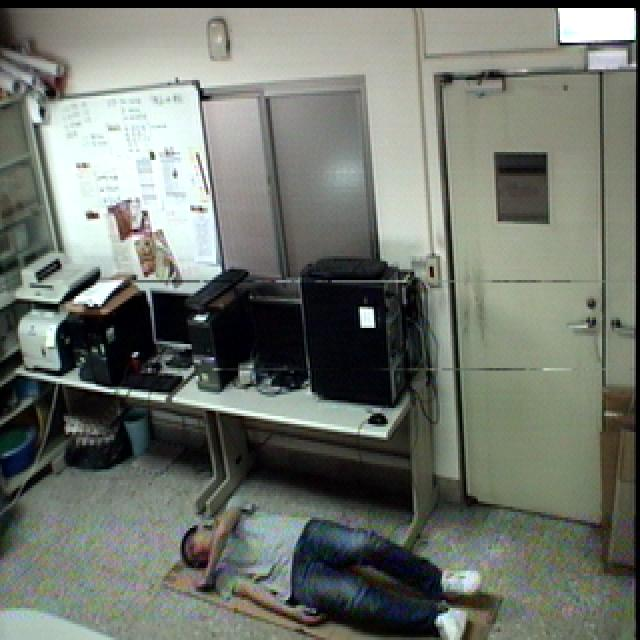lie: (170, 487, 494, 640)
